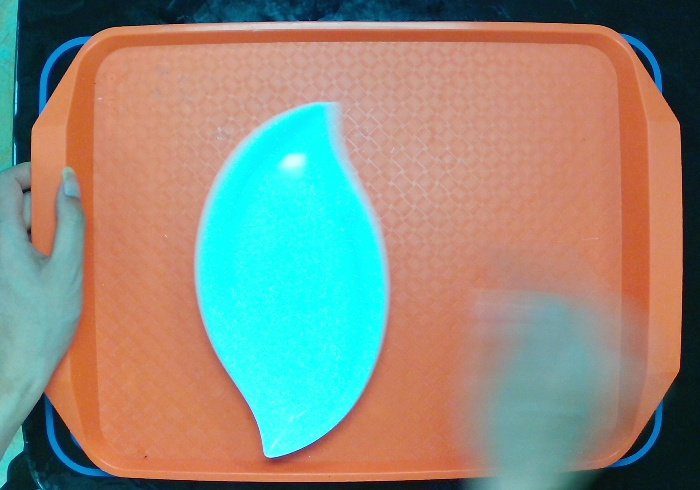RJxy-Jian_Jiao_Pan: (187, 95, 395, 462)
